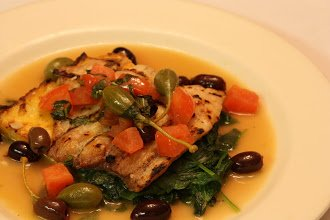sushi: (3, 2, 324, 217)
